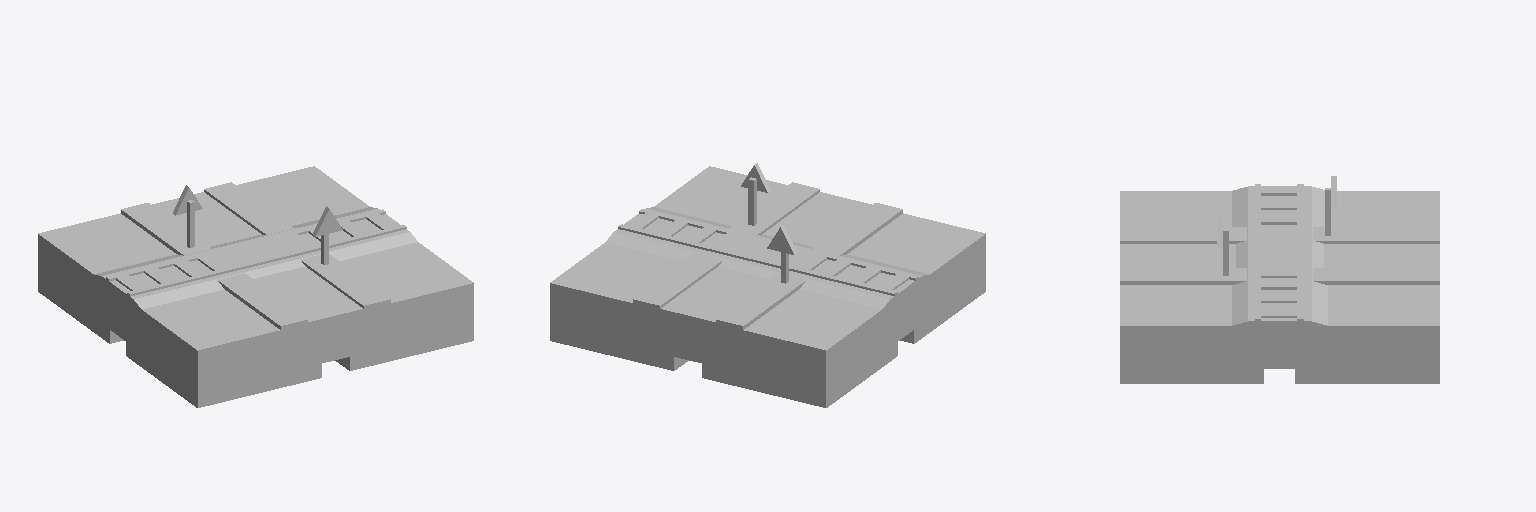
The model's file is puzzlePiece_trainCrossing_NS.obj.
3 views of the same model, side by side, from view 1: azimuth 30°, elevation 25°; view 2: azimuth 150°, elevation 25°; view 3: azimuth 270°, elevation 25° (orthographic).
Visible parts, largest first — view 1: pCube1, polySurface1, pCube6, pCube7, polySurface2 pCube5; view 2: pCube1, polySurface1, pCube6, polySurface2 pCube5, pCube7; view 3: pCube1, polySurface1, pCube6, pCube7, polySurface2 pCube5.
Boxes of the visible parts, x1=… form: pCube1: x1=38, y1=166, x2=473, y2=407; polySurface1: x1=121, y1=182, x2=390, y2=333; pCube6: x1=86, y1=207, x2=417, y2=316; pCube7: x1=106, y1=209, x2=406, y2=296; polySurface2 pCube5: x1=152, y1=192, x2=363, y2=323; pCube1: x1=550, y1=166, x2=985, y2=407; polySurface1: x1=633, y1=182, x2=902, y2=332; pCube6: x1=606, y1=207, x2=929, y2=317; polySurface2 pCube5: x1=660, y1=192, x2=871, y2=324; pCube7: x1=618, y1=209, x2=918, y2=295; pCube1: x1=1120, y1=191, x2=1439, y2=383; polySurface1: x1=1120, y1=227, x2=1439, y2=284; pCube6: x1=1231, y1=186, x2=1327, y2=328; pCube7: x1=1255, y1=184, x2=1303, y2=321; polySurface2 pCube5: x1=1120, y1=244, x2=1439, y2=267.
Bounding box in the file's own units: 0.5 × 0.2079 × 0.5.